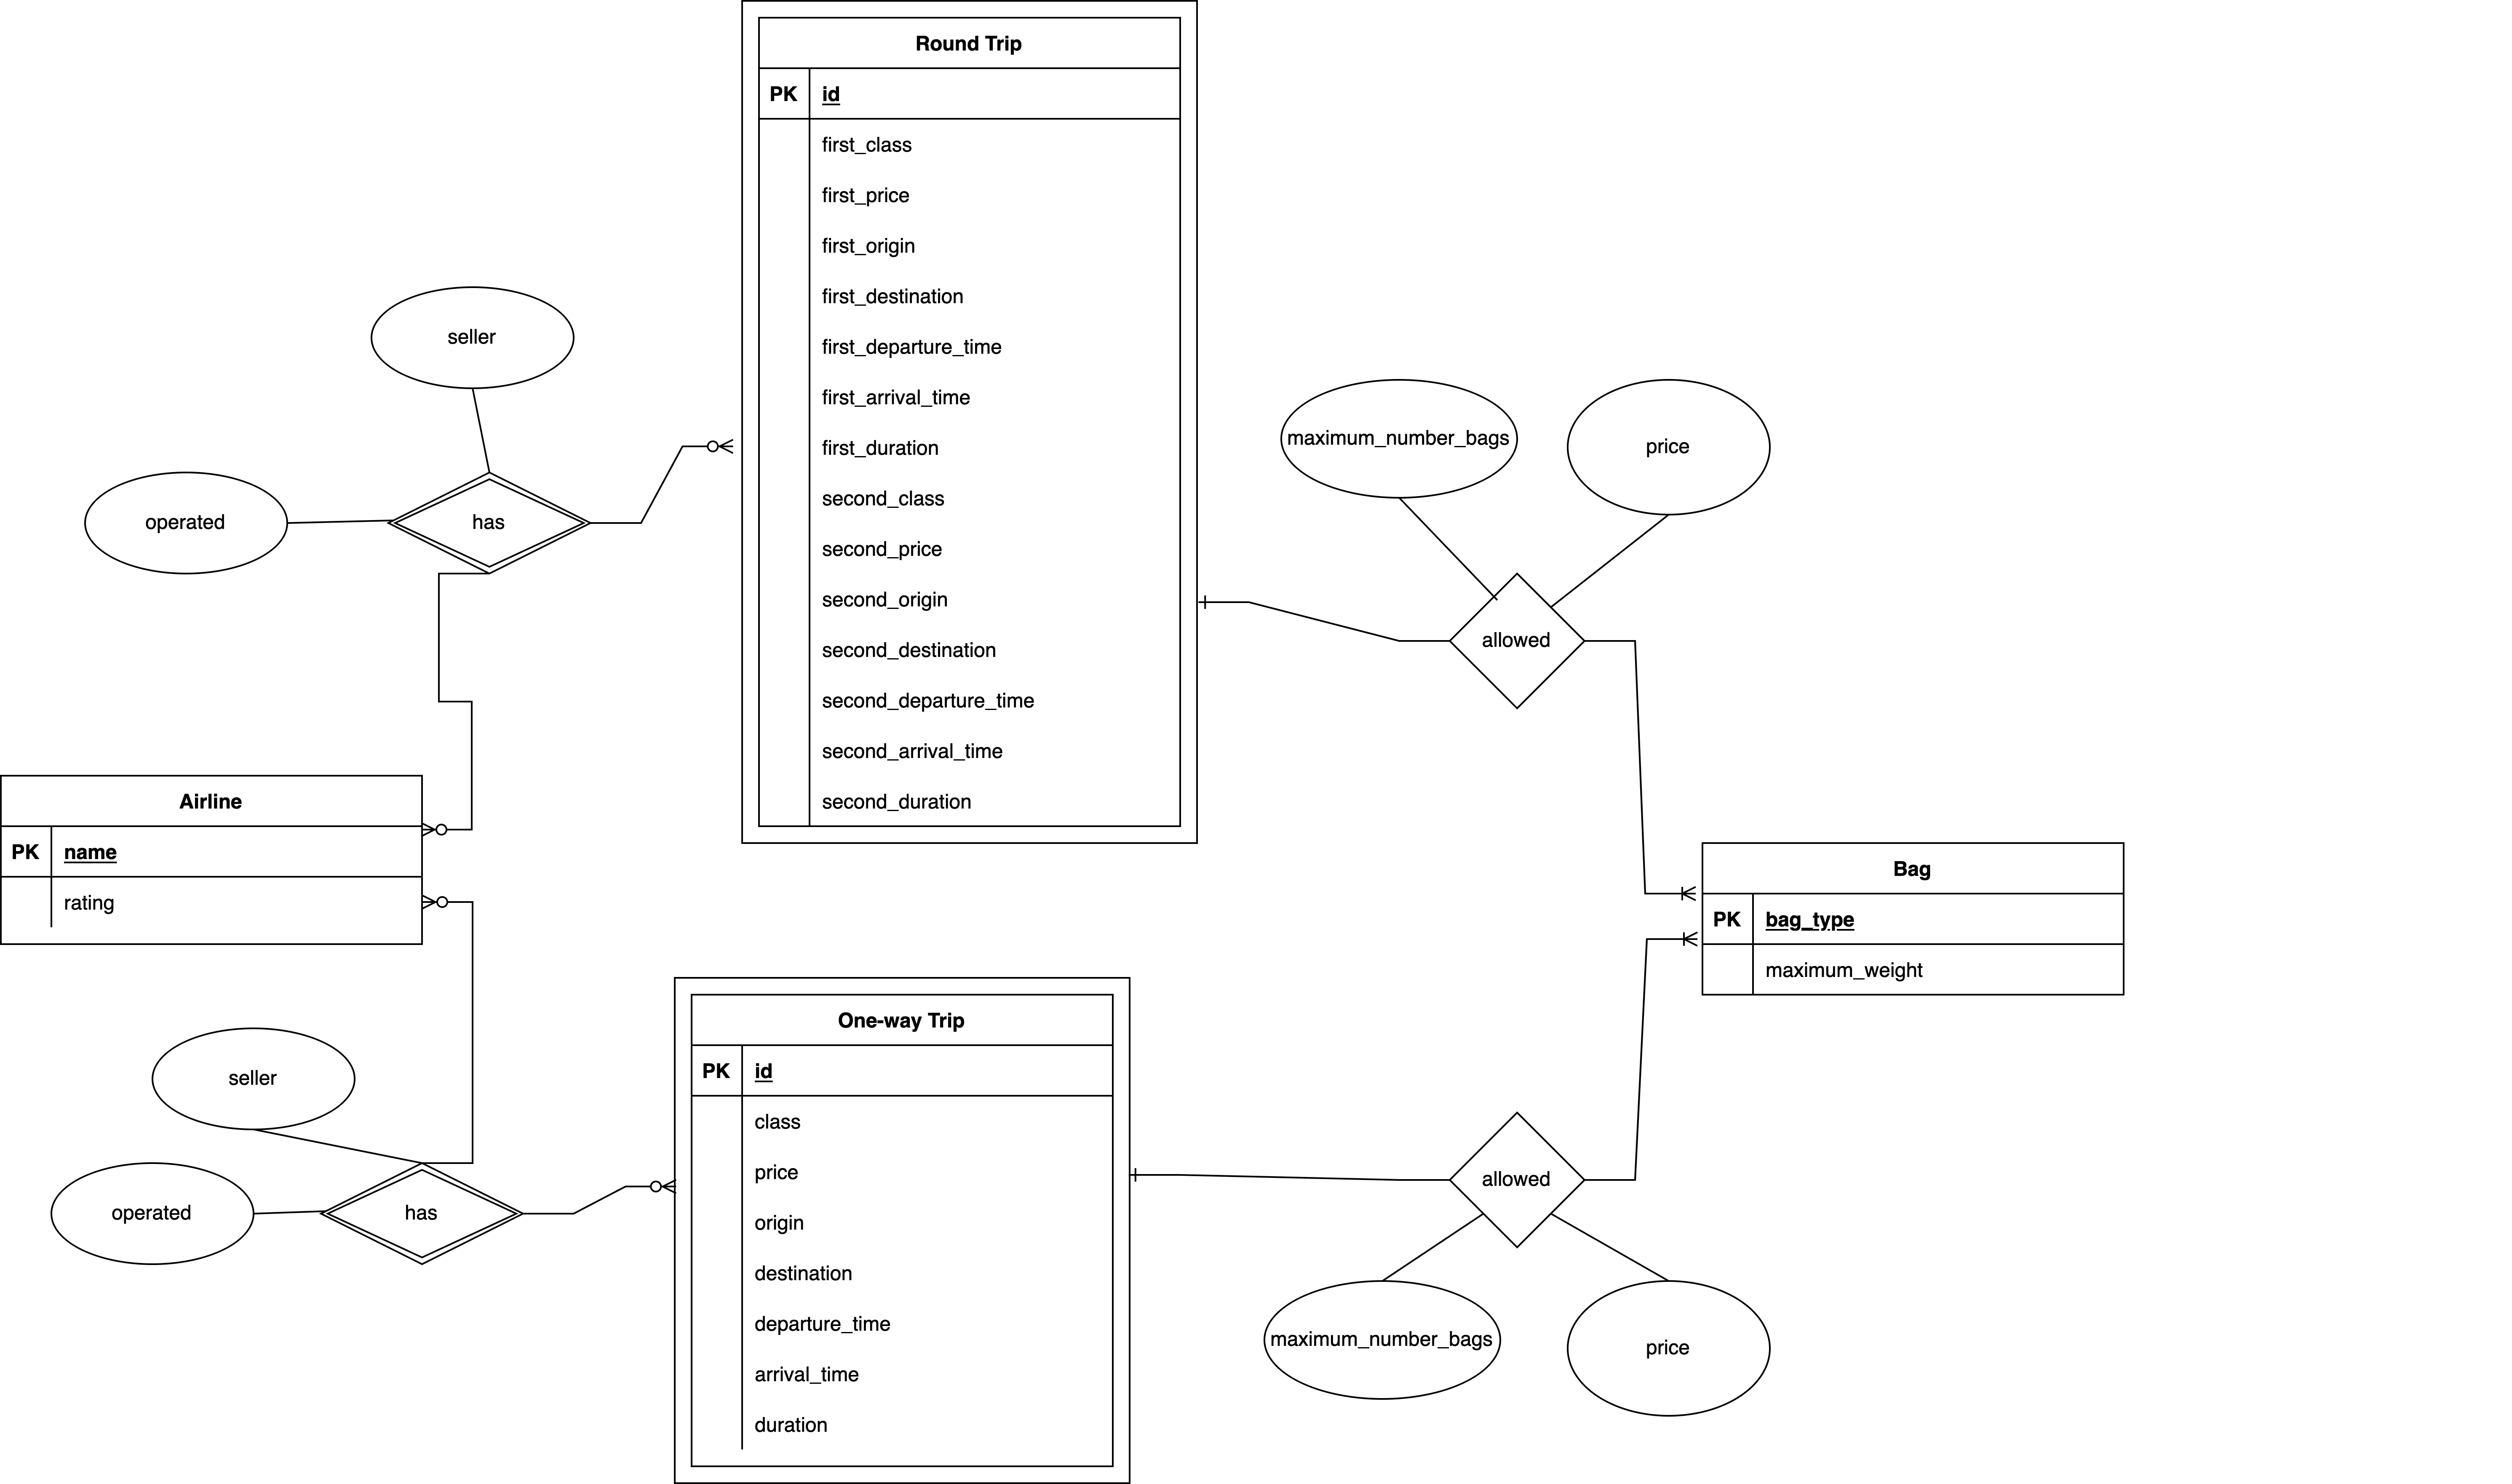entity: (4, 776, 424, 949), (1701, 837, 2123, 1000)
ident_rel: (323, 1162, 525, 1265), (394, 473, 588, 571)
many: (1643, 931, 1703, 950), (680, 438, 738, 458), (1646, 885, 1701, 903), (422, 820, 472, 839), (625, 1178, 675, 1198), (422, 894, 472, 912)
one: (1199, 594, 1249, 611), (1129, 1170, 1189, 1184)
rel: (1449, 571, 1581, 705), (1450, 1115, 1579, 1251)
rel_attr: (1565, 1281, 1775, 1419), (1267, 1283, 1502, 1403), (1570, 380, 1770, 519), (1284, 382, 1517, 496), (81, 472, 288, 579), (369, 284, 574, 389), (49, 1162, 256, 1265), (150, 1028, 355, 1125)
weak_entity: (740, 2, 1196, 844), (673, 975, 1134, 1484)
